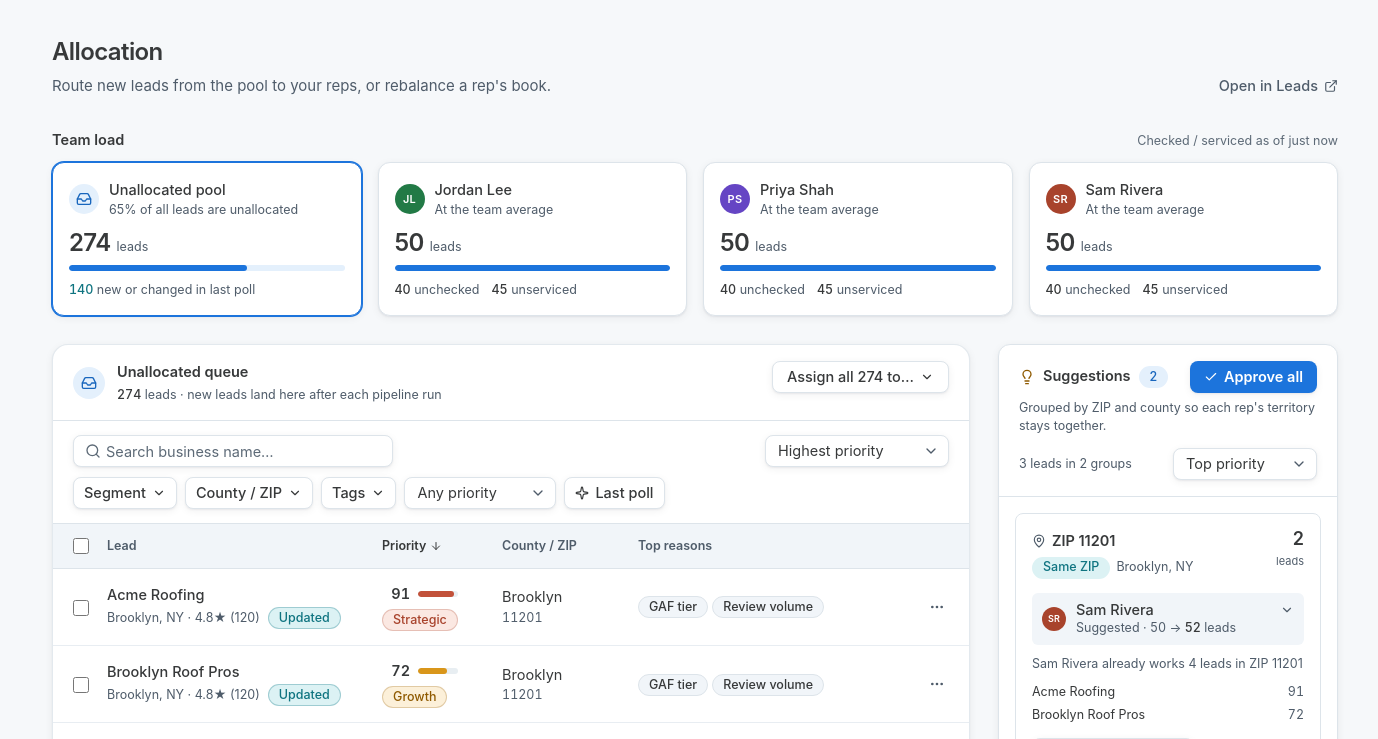
Test: AllocationPage › shows team load per rep and the pool, and scopes the queue to a rep on click
Click the button with aria-label "Sam Rivera: 50 leads, 40 unchecked, 45 unserviced" at (1124, 189), box x1=1028 y1=162 x2=1338 y2=316
(page scrolled)
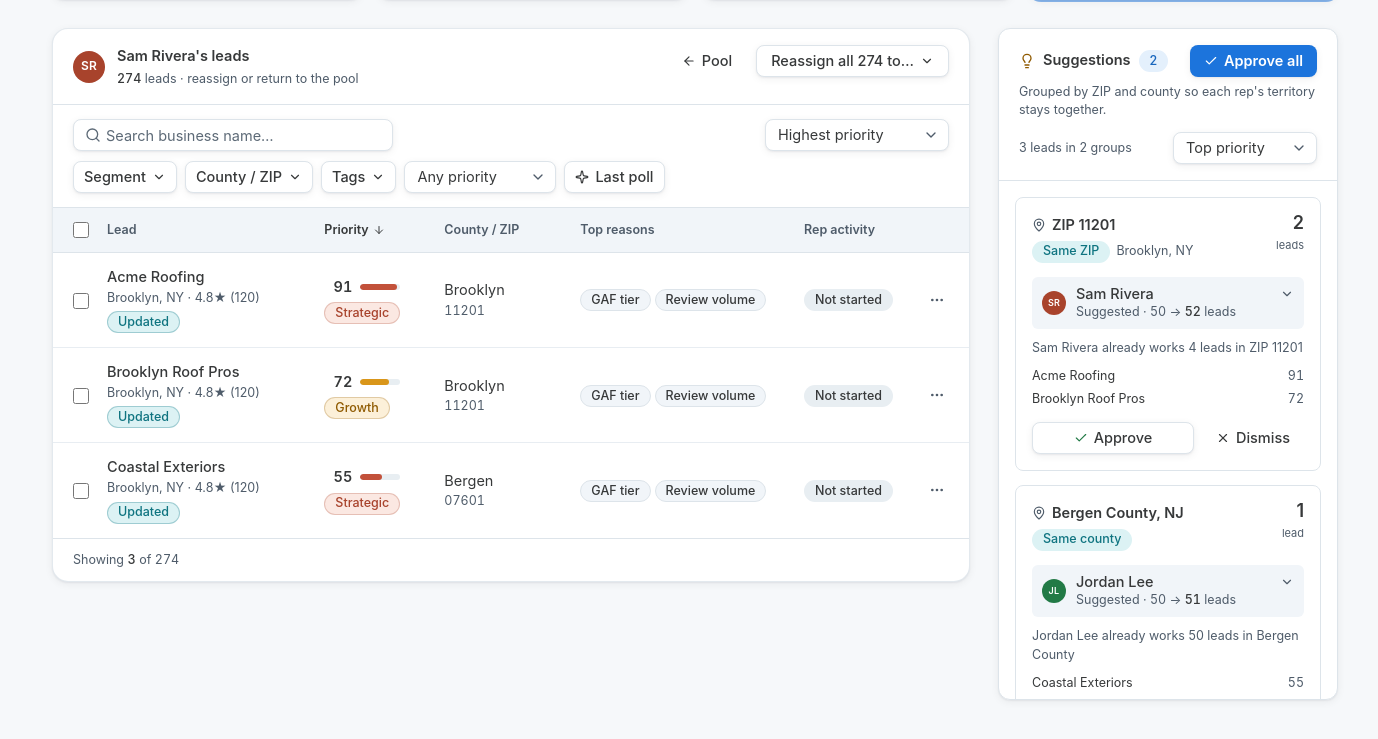
Expected: the heading "Sam Rivera's leads" is shown, x1=117 y1=47 x2=249 y2=64
